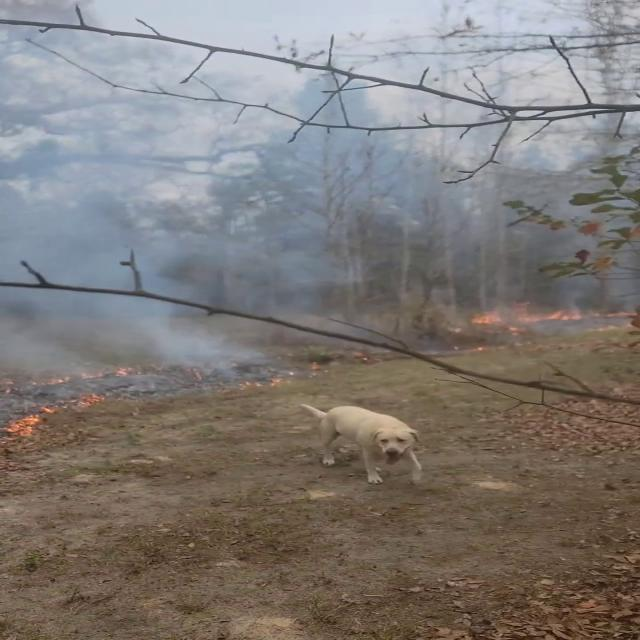Fire: (468, 299, 594, 333)
Smoke: (1, 172, 266, 418)
